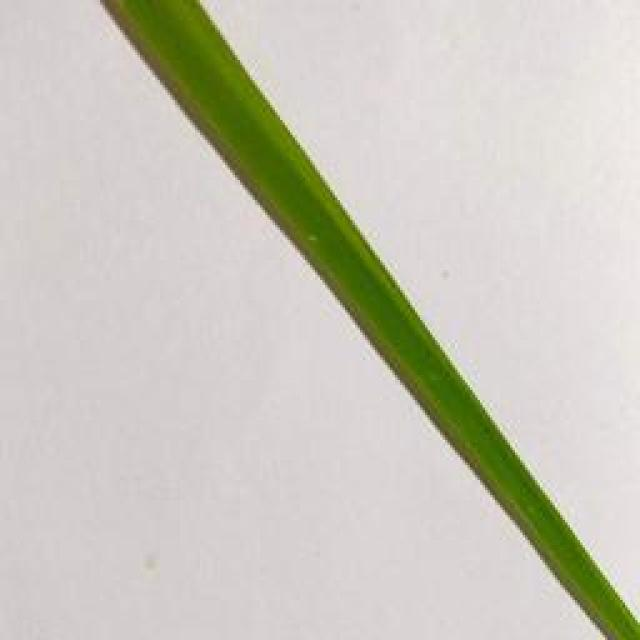Bacterial_Blight: (106, 0, 389, 348)
